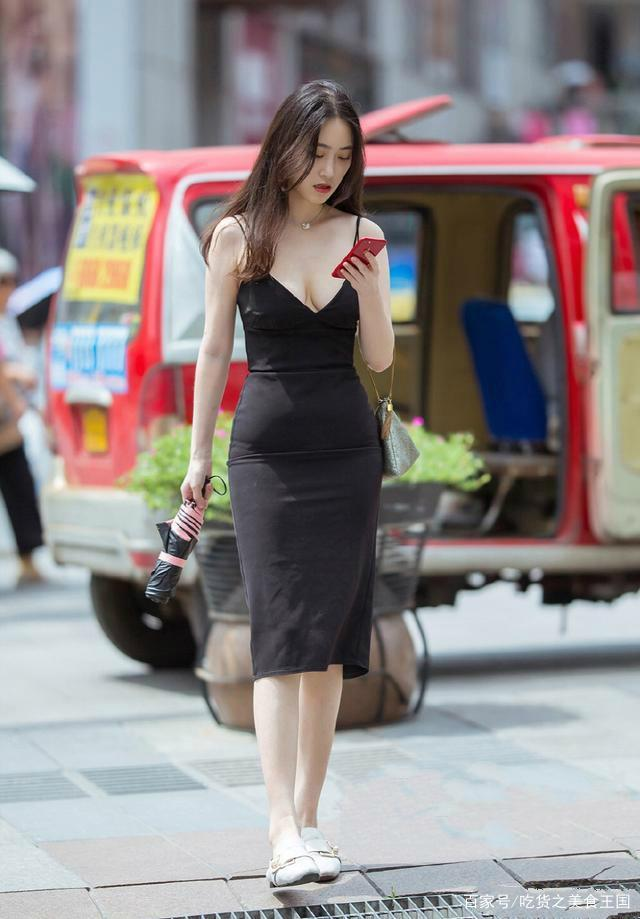people: (178, 80, 400, 870)
